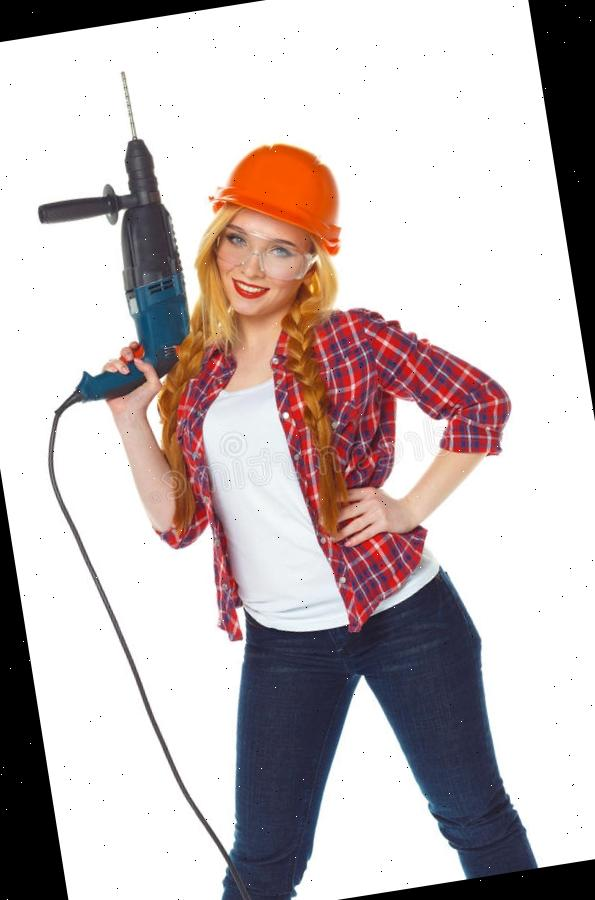helmet: (192, 130, 350, 267)
no_wear: (178, 297, 430, 640)
